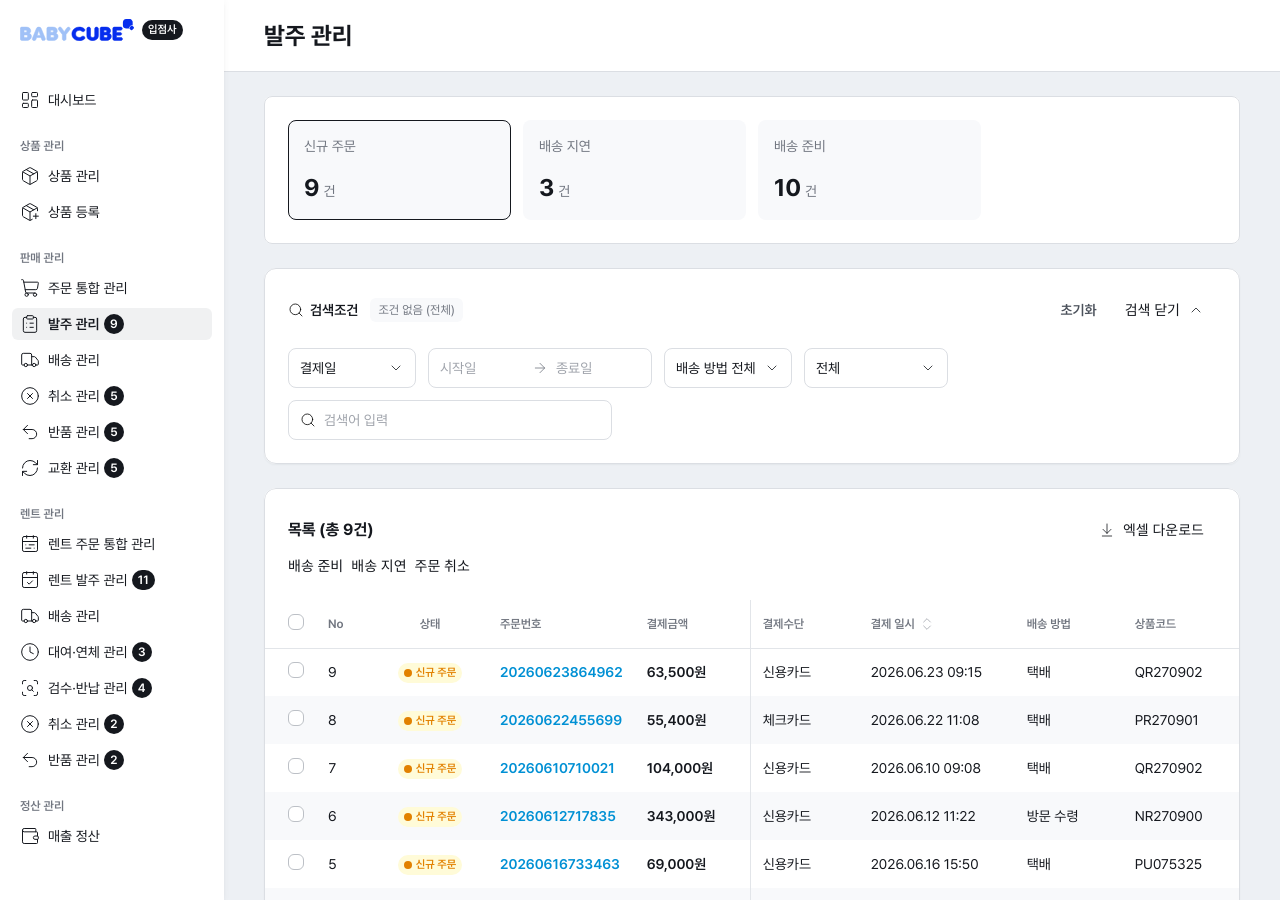
Test: SaleProcPage — 발주 관리 › [배송 준비] → 「상태 변경 확인」 현재 신규 주문 → 변경 후 배송 준비 → 확인하면 원본 알림
Click the checkbox named "20260623864962 베이비큐브 프리미엄 모유저장팩 세트 선택".
click(296, 670)  # box [288,662,304,678]
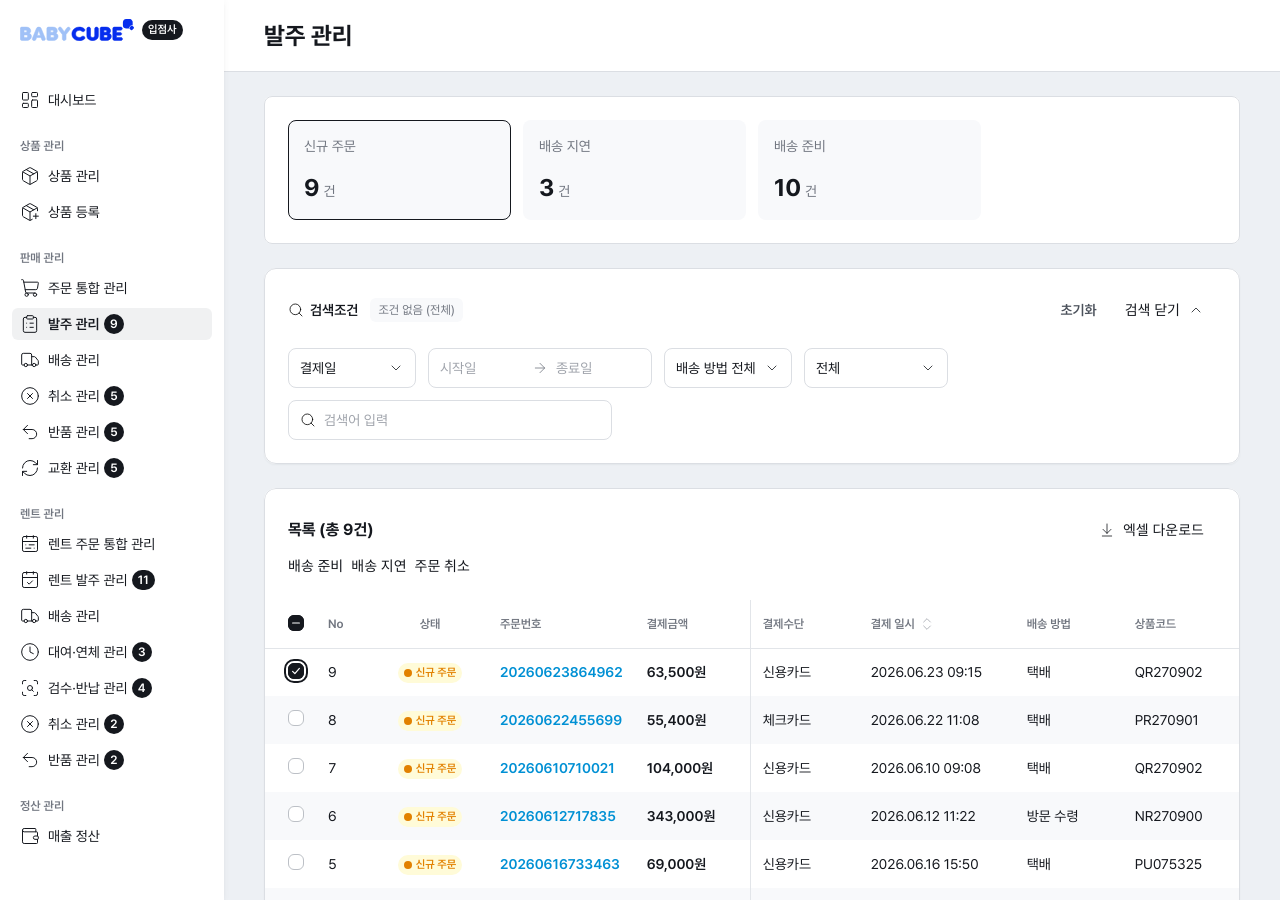
Click the button "배송 준비".
click(316, 566)  # box [288,556,343,576]
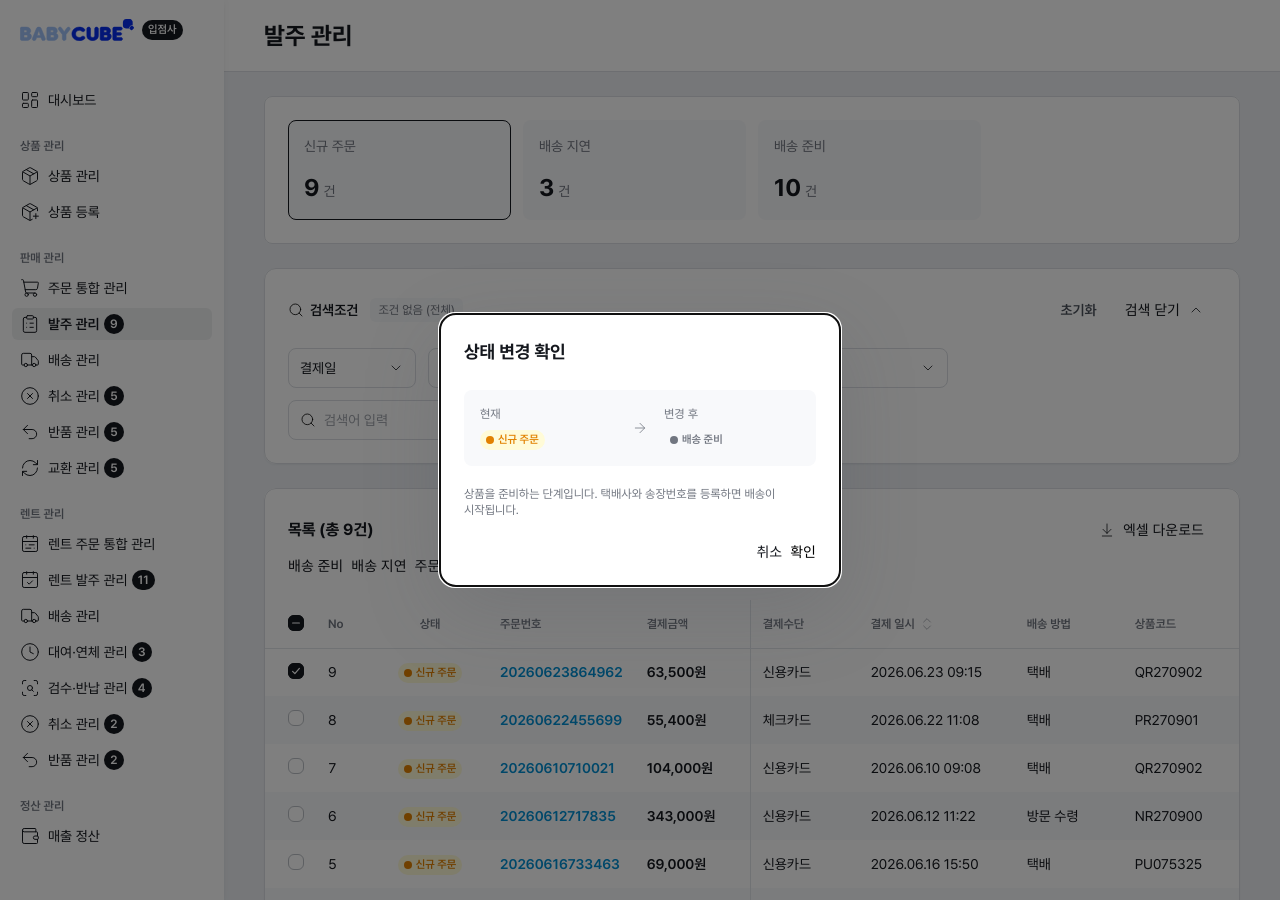
Now the text "현재" is shown, box [480,407,501,421]
Now the text "신규 주문" is shown, box [480,430,545,450]
Now the text "배송 준비" is shown, box [664,430,729,450]
Click the button "확인".
click(803, 552)  # box [790,542,816,562]
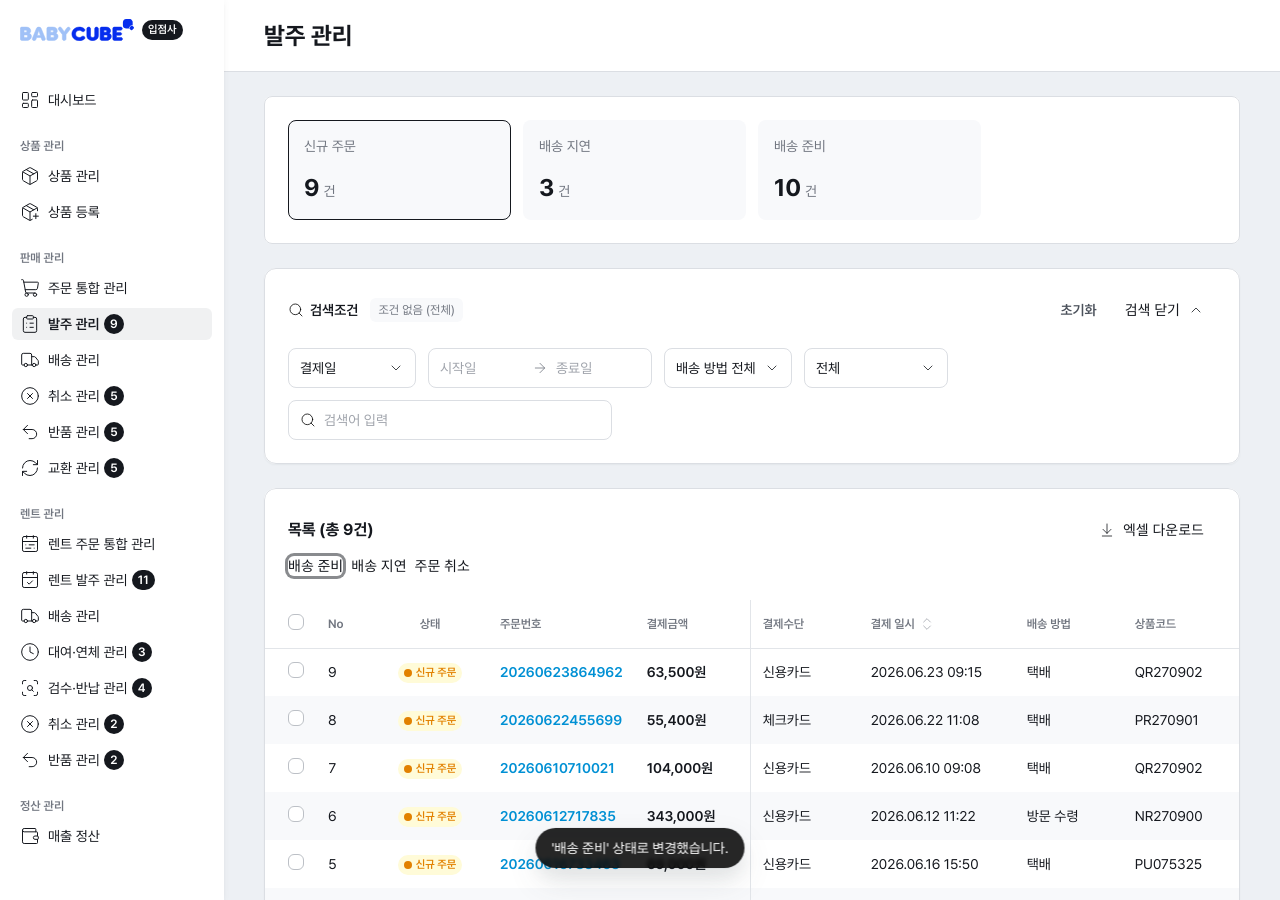
Expected: the heading "목록 (총 9건)" is shown, [288,518,373,542]
Now the text "'배송 준비' 상태로 변경했습니다." is shown, box [536,828,744,868]
